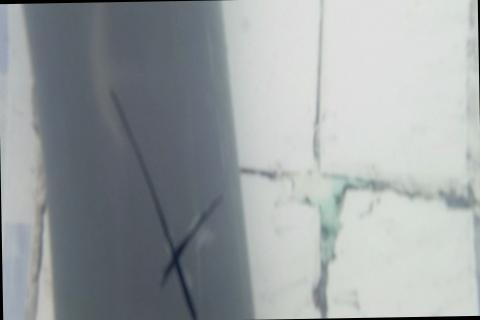keretakan: (108, 85, 224, 320)
